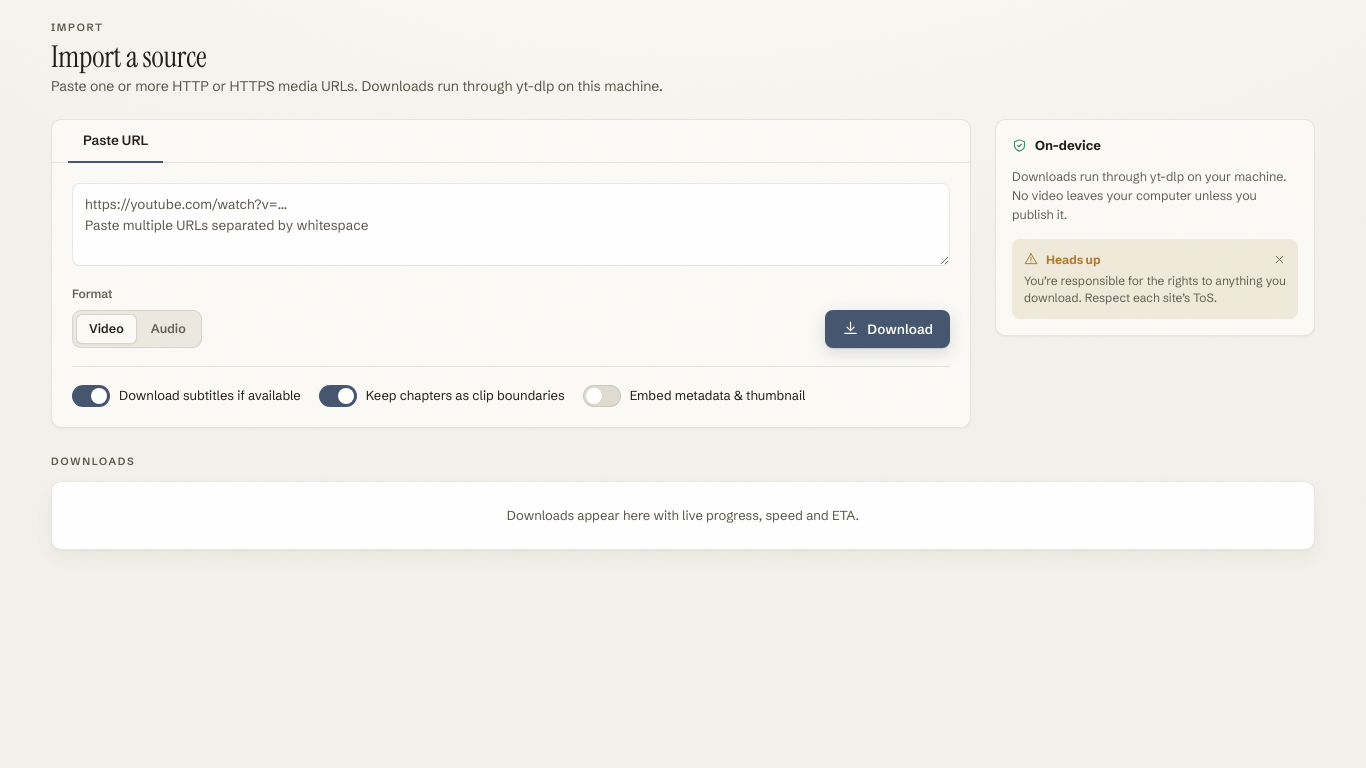
Test: product truth: URL import › prevalidates the complete batch and submits nothing when one URL is invalid
This screenshot has width=1366, height=768.
Replace the text in the text box with "https://media.example.test/watch/1 ftp://media.example.test/watch/2": (511, 225) [72, 183, 950, 266]
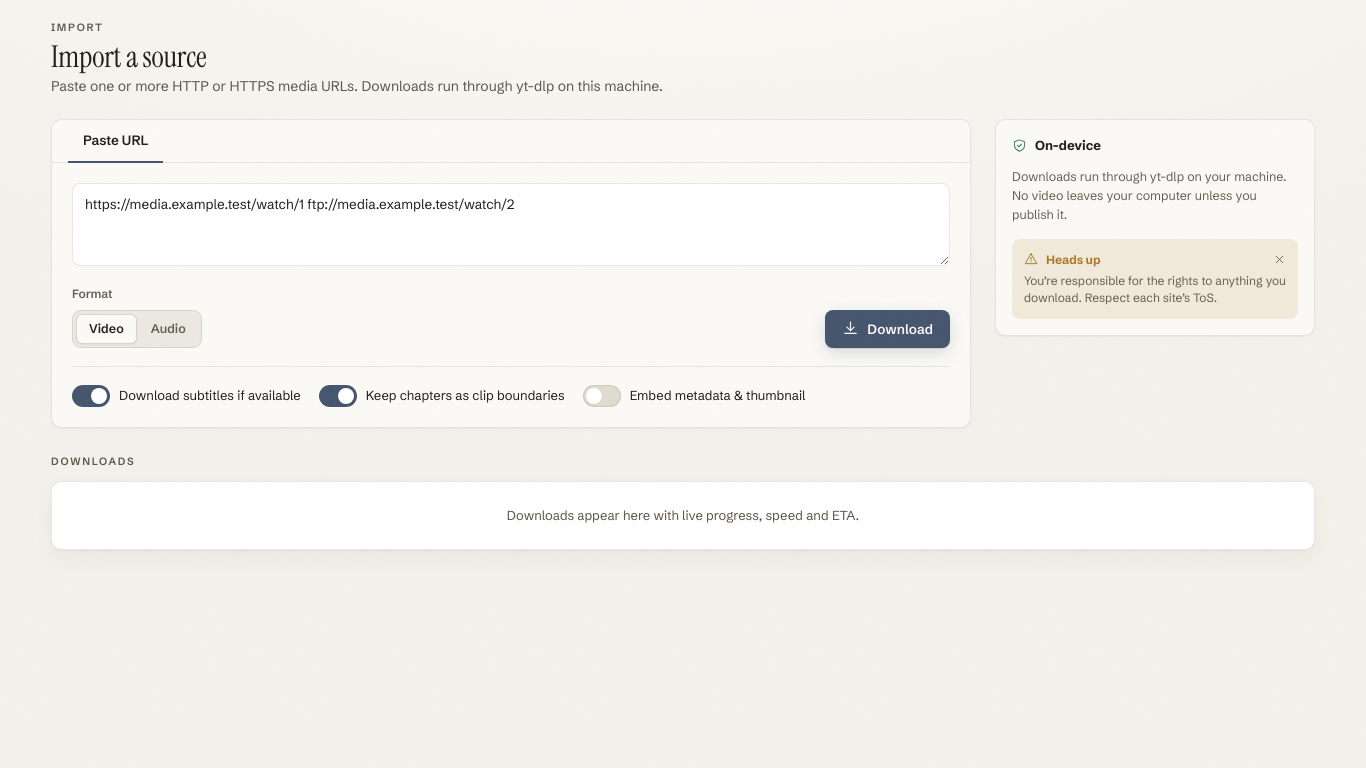
Click the button "Download": (888, 329) [825, 310, 950, 348]
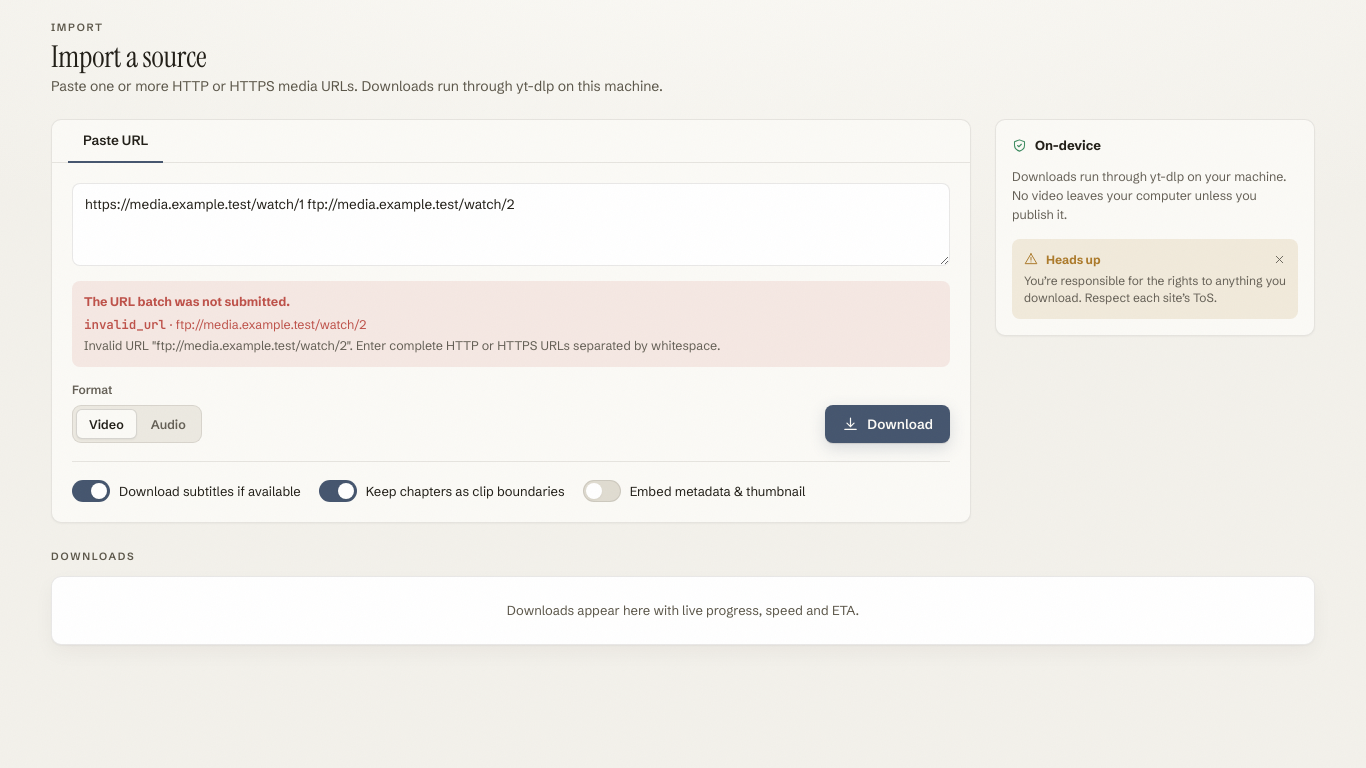
Check: the text "Invalid URL" is shown, box [84, 338, 720, 353]
